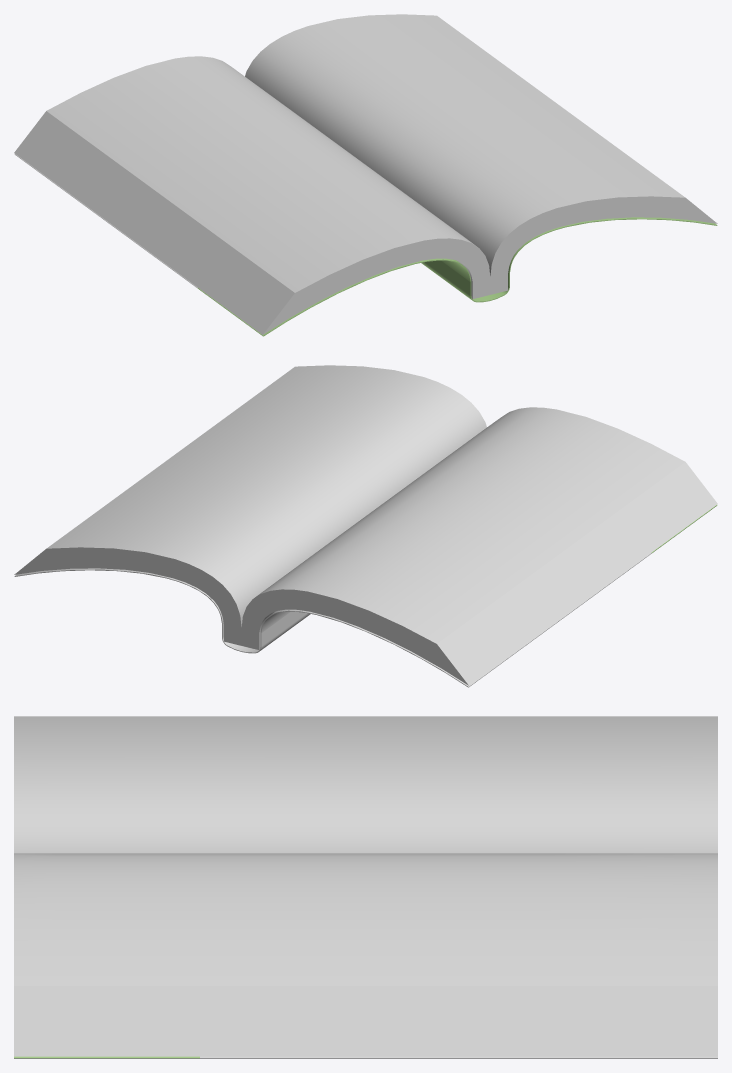
Rendered from 140_本開新書サイズ.glb.
3 renders of one model, top to bottom at view 1: azimuth 30°, elevation 25°; view 2: azimuth 150°, elevation 25°; view 3: azimuth 270°, elevation 25°, orthographic. The views are drawn at different scales.
Parts seen in each view (by area): view 1: Body; view 2: Body; view 3: Body.
Boxes of the visible parts, <box> form: Body: <box>14,14,717,336</box>; Body: <box>14,365,717,687</box>; Body: <box>14,716,717,1058</box>.
Size of the model in its own units: 0.1923 by 0.0311 by 0.182.
